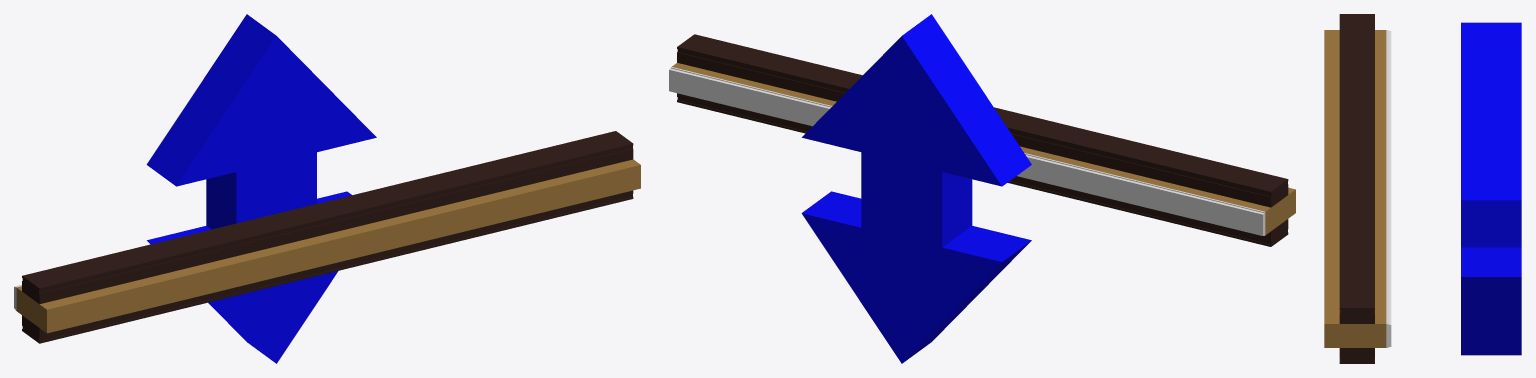
The model's file is stud-horiz.FBX.
3 renders of one model, left to right at view 1: azimuth 30°, elevation 25°; view 2: azimuth 150°, elevation 25°; view 3: azimuth 270°, elevation 25°, orthographic.
Visible parts, largest first — view 1: affordance_trans_veritical, FastTrack-h (×2), 2x4stud-h; view 2: affordance_trans_veritical, FastTrack-h (×2), ScreenTight-15-h, 2x4stud-h; view 3: affordance_trans_veritical, FastTrack-h (×2), 2x4stud-h, ScreenTight-15-h.
Part boxes in pixels (<box>): affordance_trans_veritical: <box>146,14,376,363</box>; FastTrack-h (×2): <box>22,131,633,343</box>; 2x4stud-h: <box>16,159,640,333</box>; affordance_trans_veritical: <box>801,14,1031,363</box>; FastTrack-h (×2): <box>677,34,1288,246</box>; ScreenTight-15-h: <box>669,67,1265,235</box>; 2x4stud-h: <box>672,63,1295,235</box>; affordance_trans_veritical: <box>1461,22,1521,355</box>; FastTrack-h (×2): <box>1339,14,1374,363</box>; 2x4stud-h: <box>1324,30,1386,347</box>; ScreenTight-15-h: <box>1386,30,1391,347</box>.
Size of the model in its own units: 1 by 0.5279 by 0.2832.
